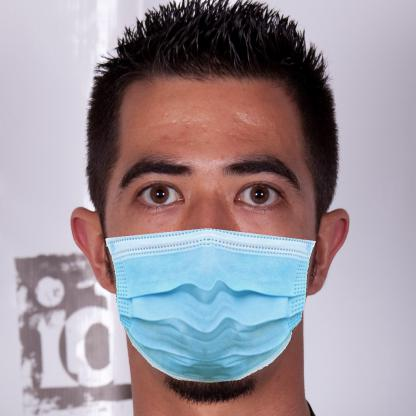Correctly_Masked: (107, 74, 318, 382)
